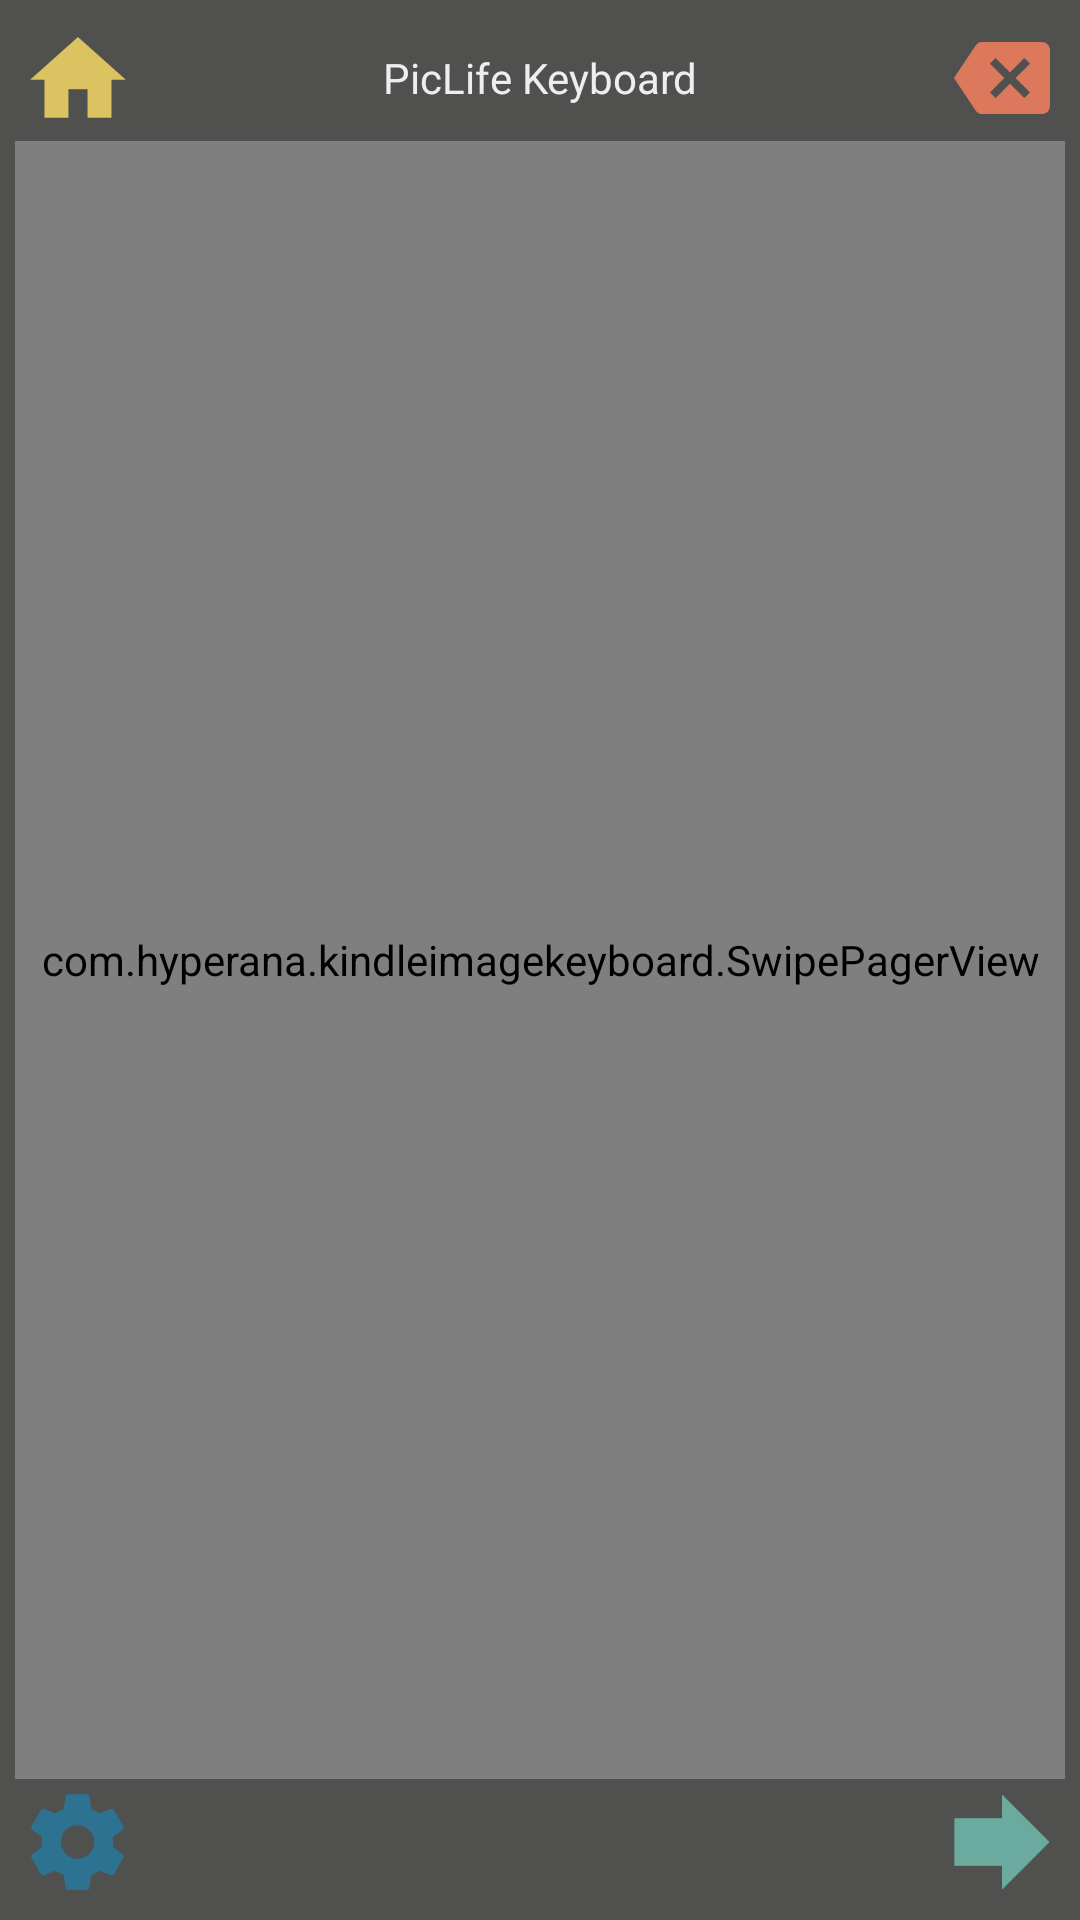

Screen size 1080px×1920px. Icon name, then its box in pixels as (x1, y1, x2, y2):
backspace: (954, 42, 1050, 114)
home: (30, 37, 126, 118)
show settings access: (31, 1794, 124, 1890)
